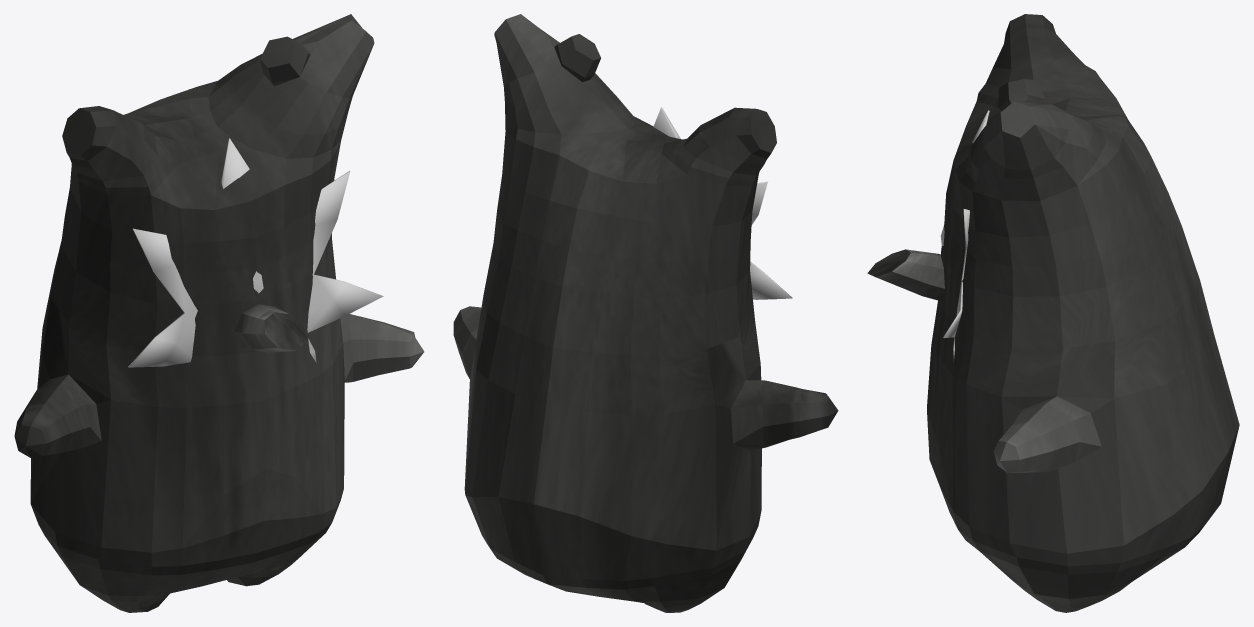
The model's file is frame_0016.obj.
The picture shows the model from 3 angles, left to right: view 1: azimuth 30°, elevation 25°; view 2: azimuth 150°, elevation 25°; view 3: azimuth 270°, elevation 25°; orthographic projection. The views are drawn at different scales.
Parts seen in each view (by area): view 1: korok, leaf.003_柱体.013, nose.003_柱体.011; view 2: korok, leaf.003_柱体.013; view 3: korok, nose.003_柱体.011, leaf.003_柱体.013.
Part boxes in pixels (<box>): korok: <box>14,14,424,612</box>; leaf.003_柱体.013: <box>128,138,383,367</box>; nose.003_柱体.011: <box>234,304,307,352</box>; korok: <box>453,14,838,612</box>; leaf.003_柱体.013: <box>653,107,792,299</box>; korok: <box>927,14,1239,612</box>; nose.003_柱体.011: <box>867,249,944,301</box>; leaf.003_柱体.013: <box>940,110,989,361</box>.
Bounding box in the file's own units: 1.65 × 2.23 × 1.39.
